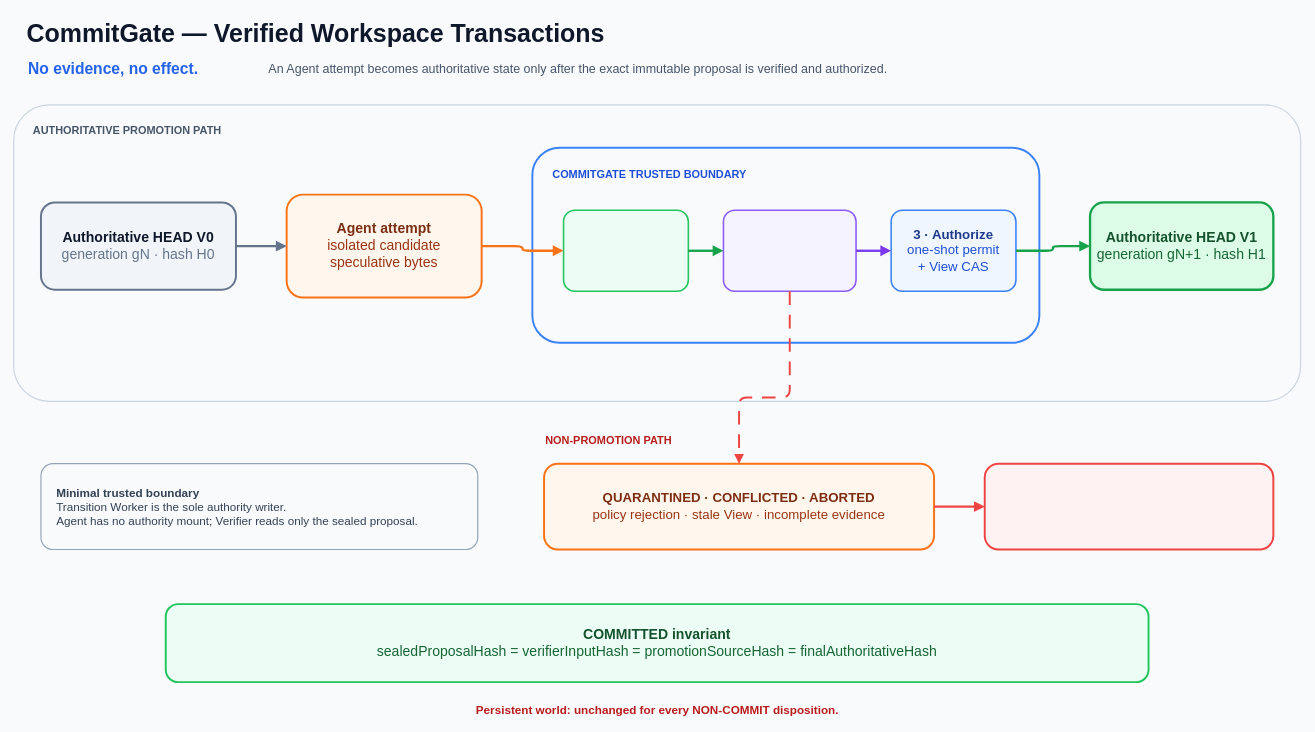
Some shapes in this 1315 by 732 pixel diagram are drawn without their labels. The centre of each missing label's shape, as x and y in pixels:
"1 · Seal immutable proposal" goes at pixel 625 250.
"2 · Verify trusted checks sealed input" goes at pixel 789 250.
"Workspace HEAD unchanged generation gN · hash H0 Session View fenced · epoch +1" goes at pixel 1128 506.
